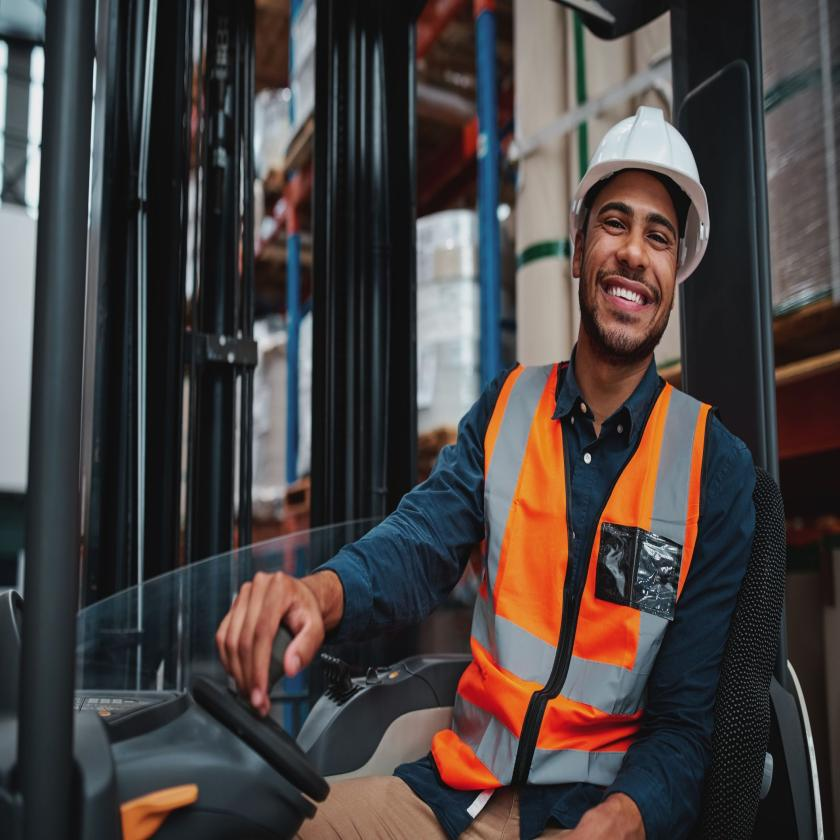Con_casco: (568, 106, 714, 368)
